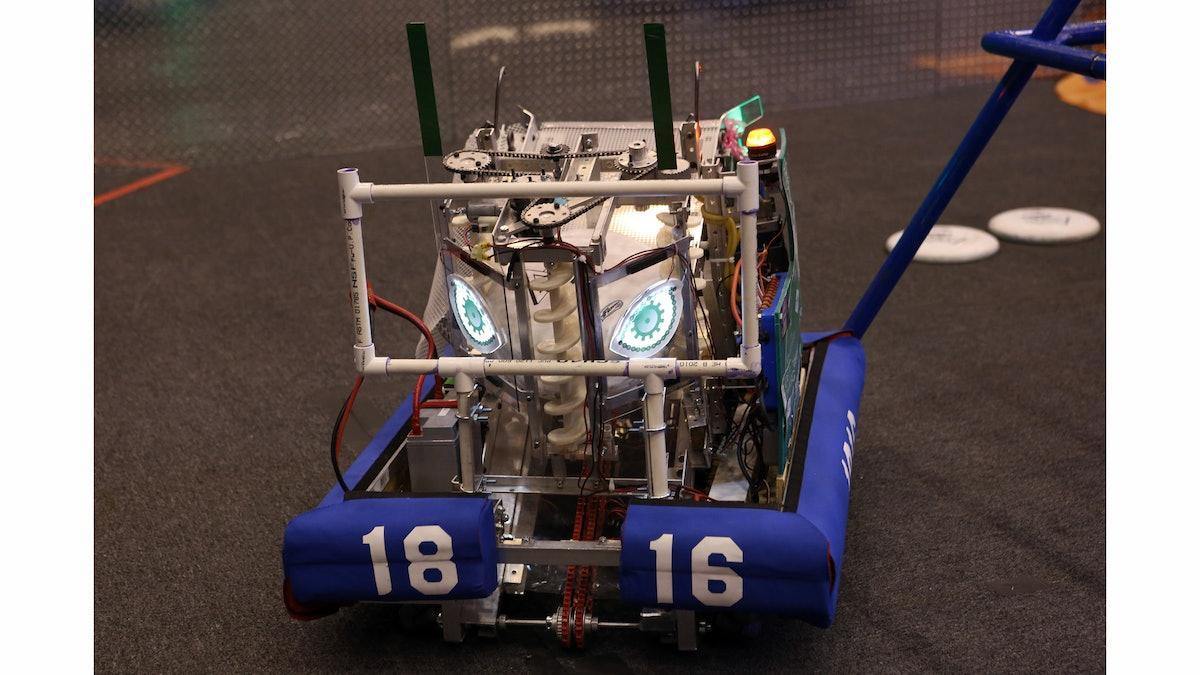robot: (276, 11, 873, 670)
